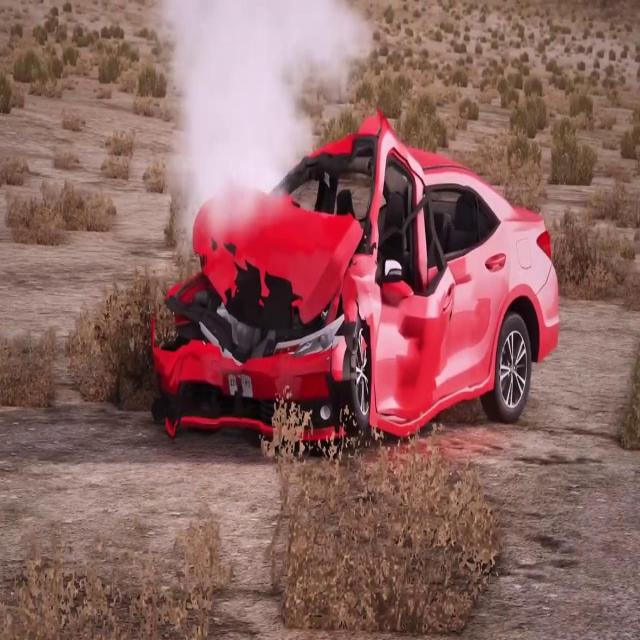severe: (141, 112, 565, 453)
